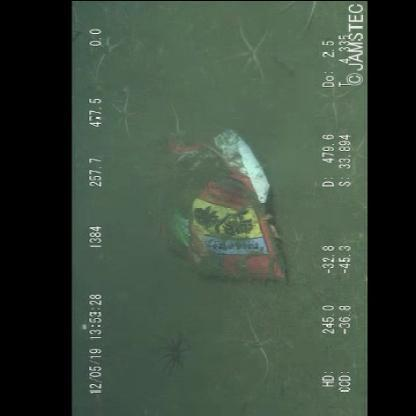Rác: (152, 127, 294, 285)
